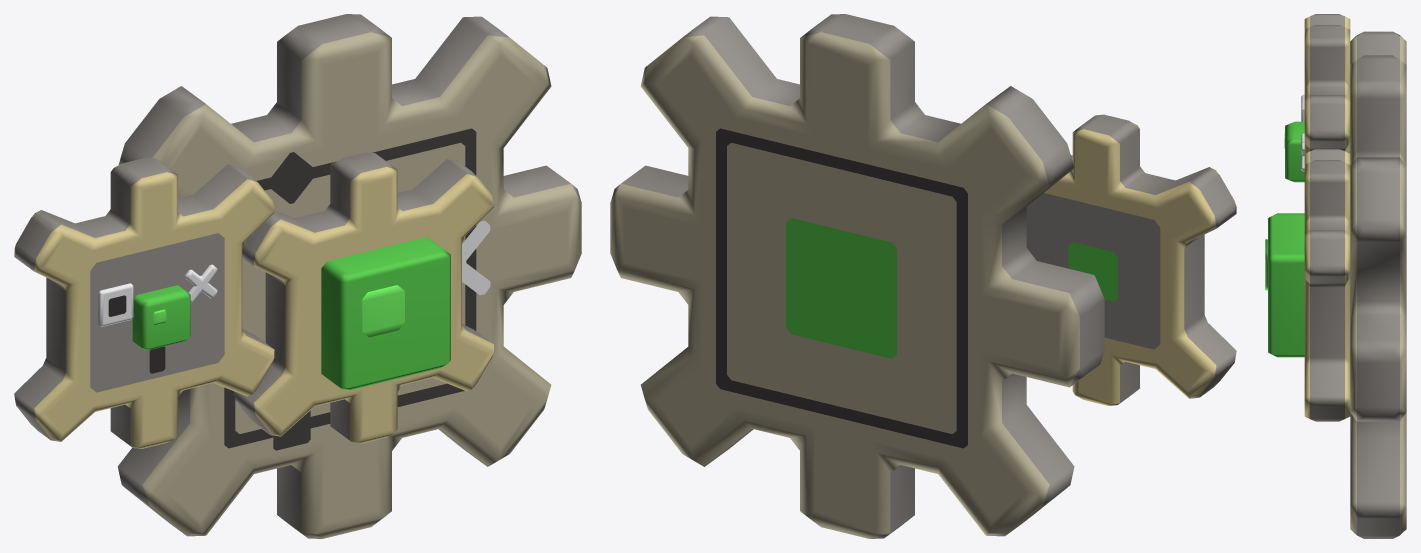
Rendered from model_shiny.obj.
The picture shows the model from 3 angles, left to right: view 1: azimuth 30°, elevation 25°; view 2: azimuth 150°, elevation 25°; view 3: azimuth 270°, elevation 25°; orthographic projection. The views are drawn at different scales.
Parts seen in each view (by area): view 1: 0600_klang_shiny; view 2: 0600_klang_shiny; view 3: 0600_klang_shiny.
Boxes of the visible parts, <box> form: 0600_klang_shiny: <box>14,14,581,538</box>; 0600_klang_shiny: <box>610,14,1236,538</box>; 0600_klang_shiny: <box>1265,14,1406,538</box>.
Size of the model in its own units: 2.63 by 2.16 by 0.6424.
1 material, 1 textured.
